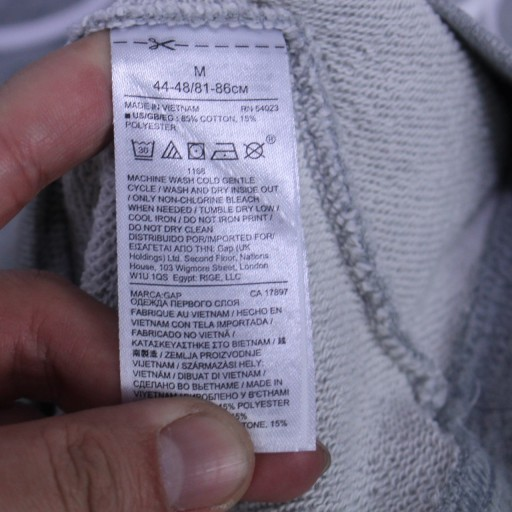ER_iron_low_temp: (211, 139, 239, 162)
ER_no_dry_clean: (244, 139, 266, 162)
ER_non_chlorine_bleach: (160, 137, 183, 162)
ER_tumble_dry_low_heat: (184, 138, 207, 161)
ER_wash_30_mild: (129, 136, 156, 162)
